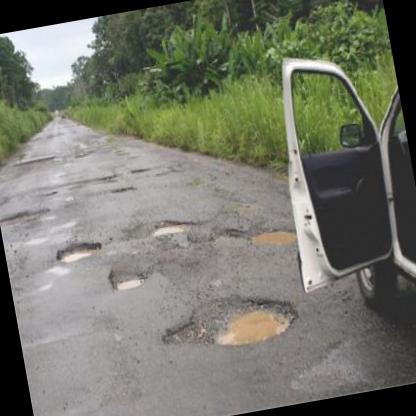pothole: (154, 280, 303, 359), (242, 216, 300, 250), (51, 235, 103, 264), (105, 263, 147, 294), (0, 203, 48, 227), (148, 214, 192, 239), (107, 180, 137, 196)
